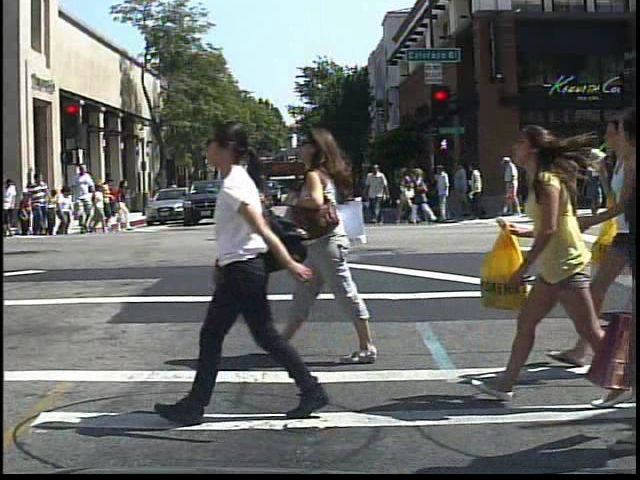person: (181, 110, 323, 428), (503, 103, 604, 404), (282, 119, 381, 362), (68, 161, 96, 235), (24, 172, 51, 239), (499, 151, 523, 217), (2, 173, 22, 239), (105, 175, 126, 214), (165, 174, 183, 210)
